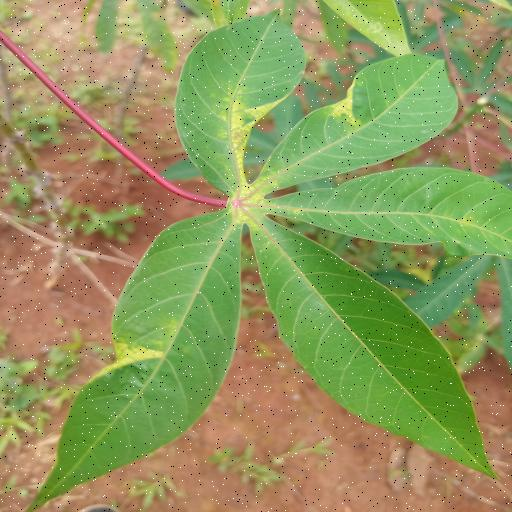Cassava_Mosaic: (43, 7, 512, 512)
